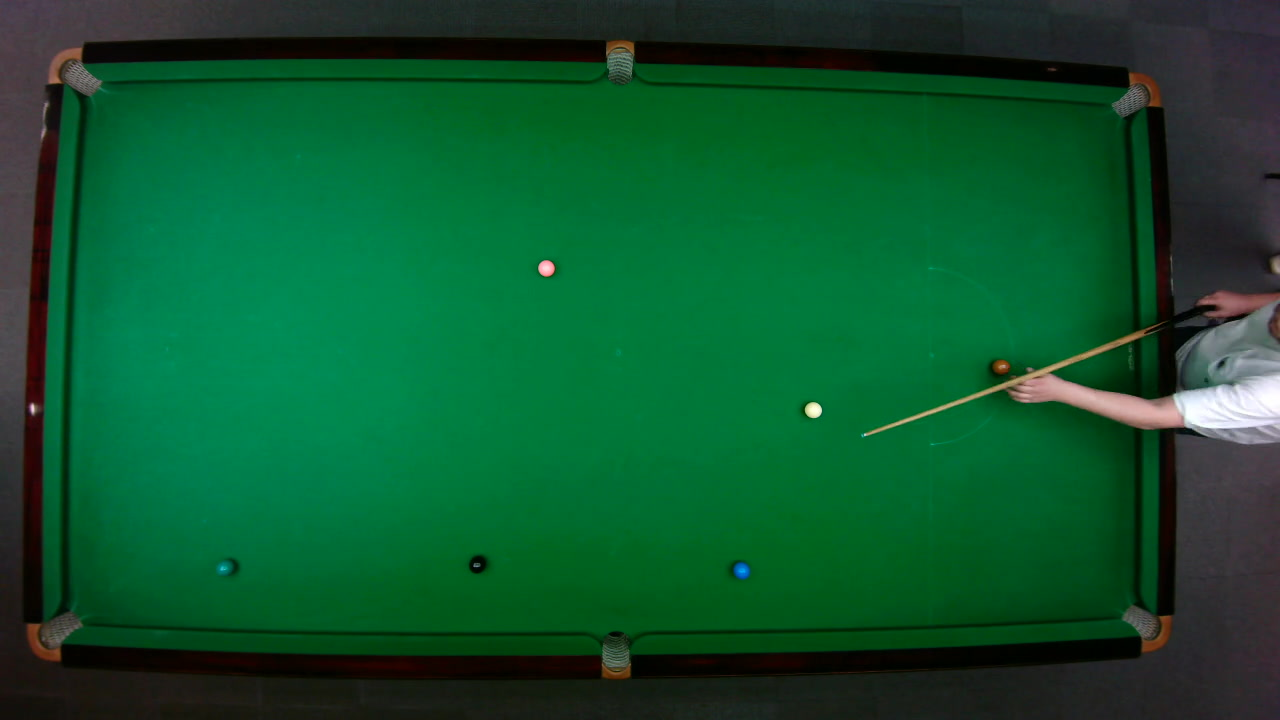bag: (25, 609, 83, 661), (46, 46, 102, 96), (1119, 603, 1172, 652), (1108, 71, 1162, 118), (600, 629, 629, 680), (605, 38, 633, 85)
black: (467, 554, 485, 573)
blue: (731, 560, 750, 579)
brown: (990, 358, 1010, 374)
cue: (857, 280, 1250, 440)
green: (214, 557, 235, 576)
pink: (536, 258, 556, 277)
white: (802, 400, 822, 418)
zone: (927, 264, 1013, 445)
